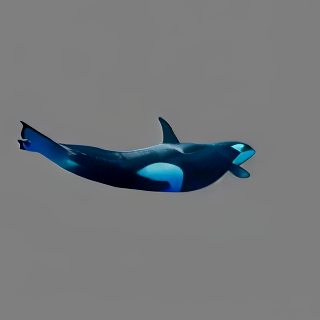Orca whale: (16, 114, 256, 194)
